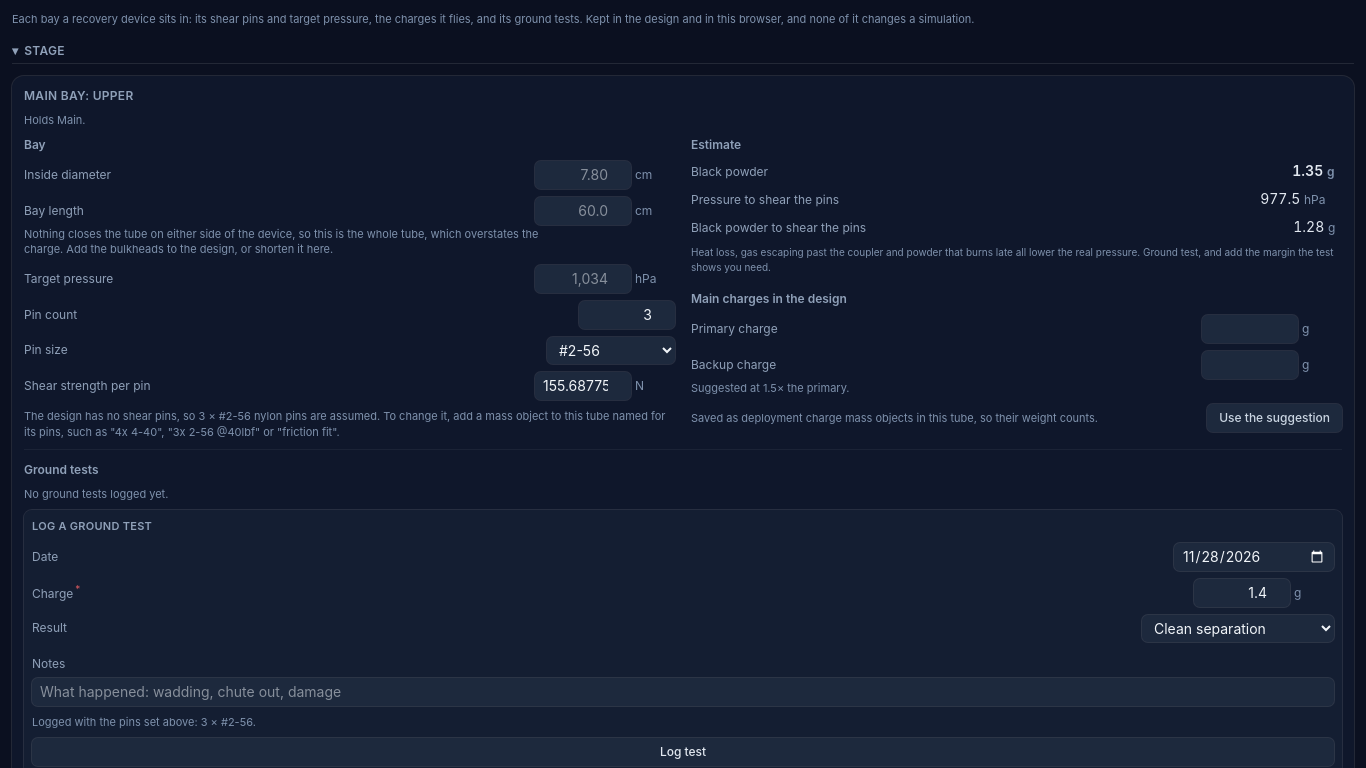
Test case: the Bays view › logs a ground test with the pins in, and flies its charge
The image size is (1366, 768).
Type "2026-10-30" into the date field labelled "Date". click: (1254, 557)
box: [1174,543,1334,571]
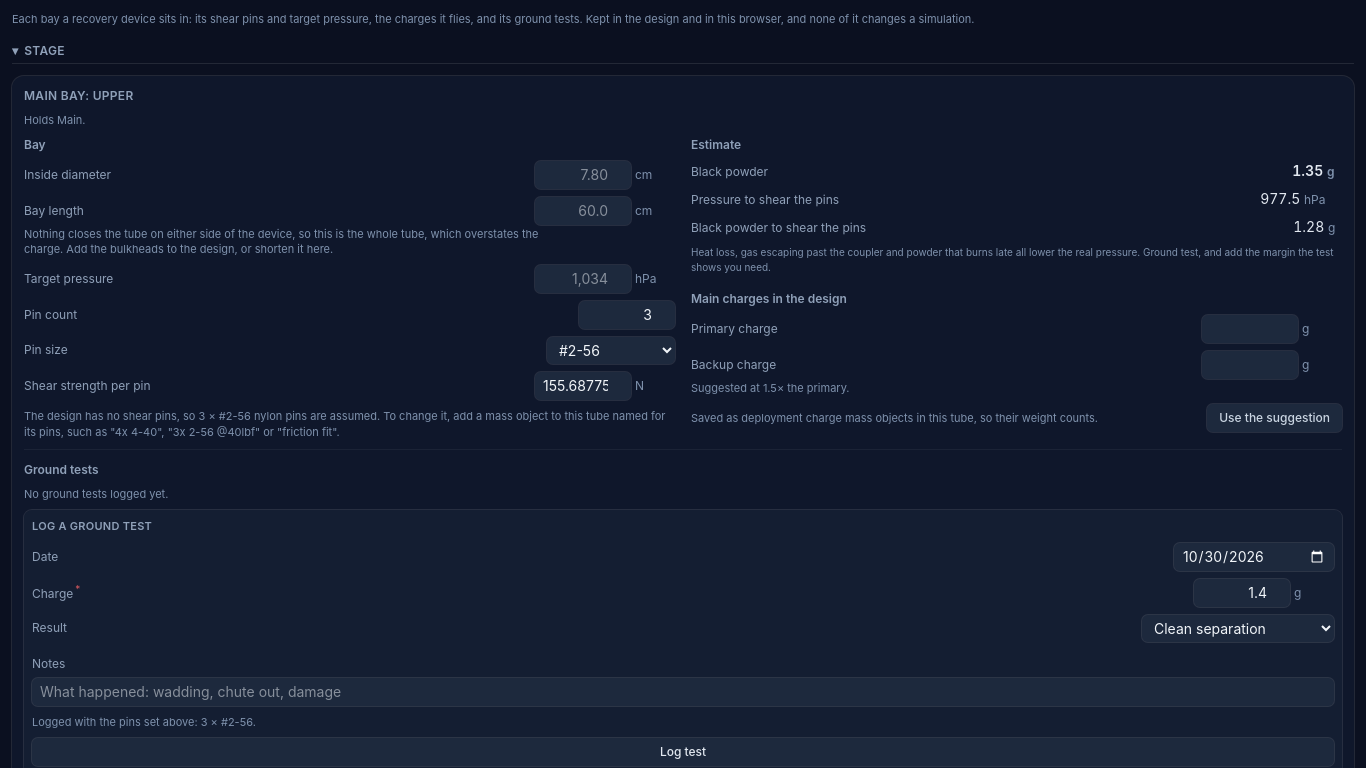
Replace the text in the number field labelled "Charge" with "1.2". click: (1242, 593)
box: [1194,579,1290,607]
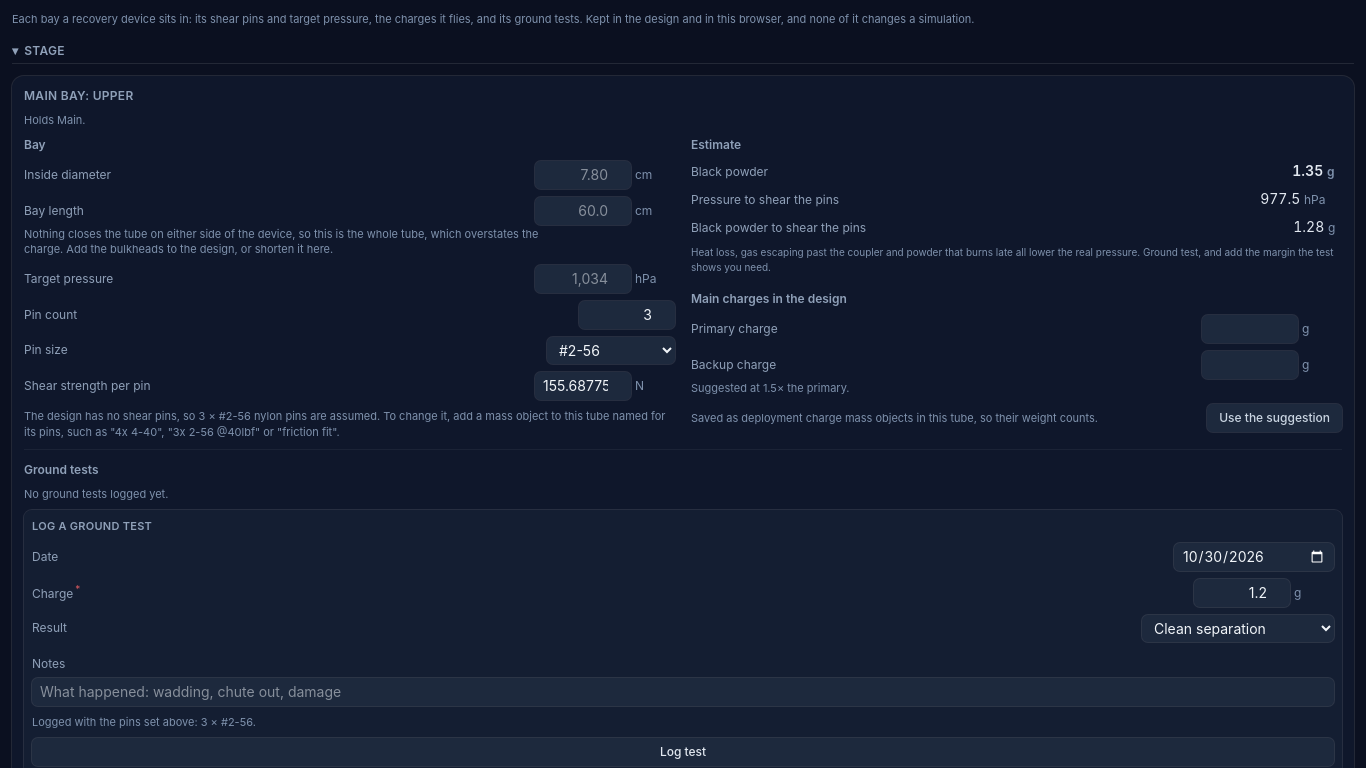
Select "Separated, too violent" in the dropdown labelled "Result". click: (1238, 628)
box: [1142,615,1334,642]
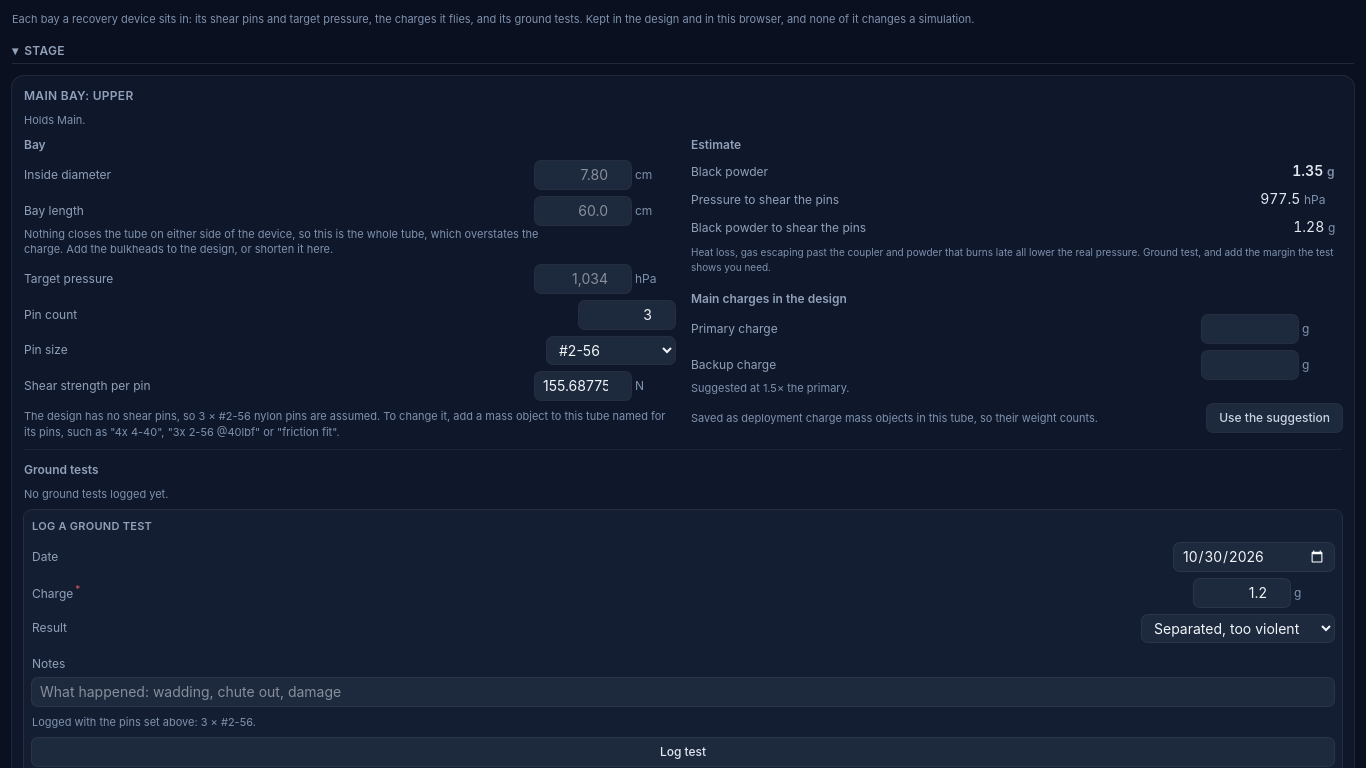
Type "Nose cone flew 10 m" into the field labelled "Notes". click: (683, 692)
box: [32,678,1334,706]
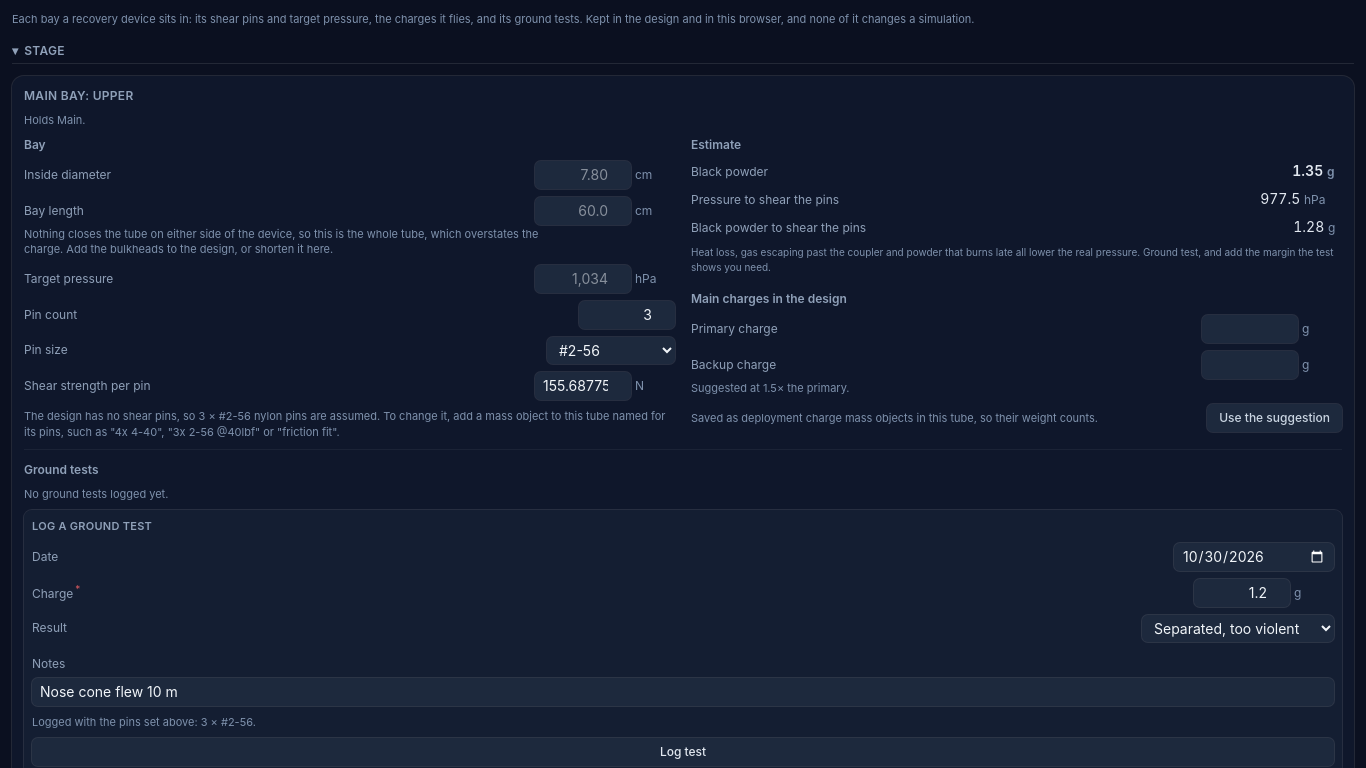
Click the button "Log test". click: (683, 752)
box: [32,738,1334,766]
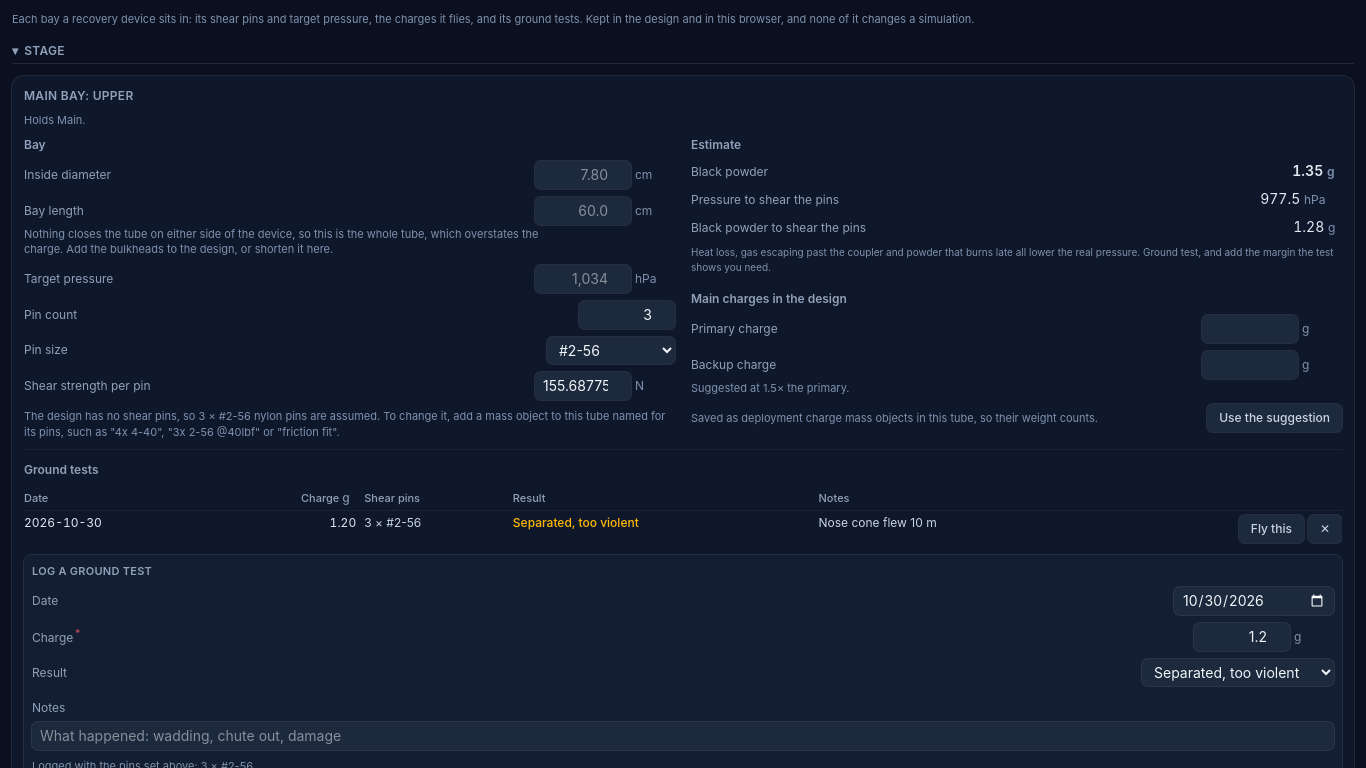
Click the button with aria-label "Fly the charge tested on 2026-10-30". click: (1271, 529)
box: [1239,515,1304,543]
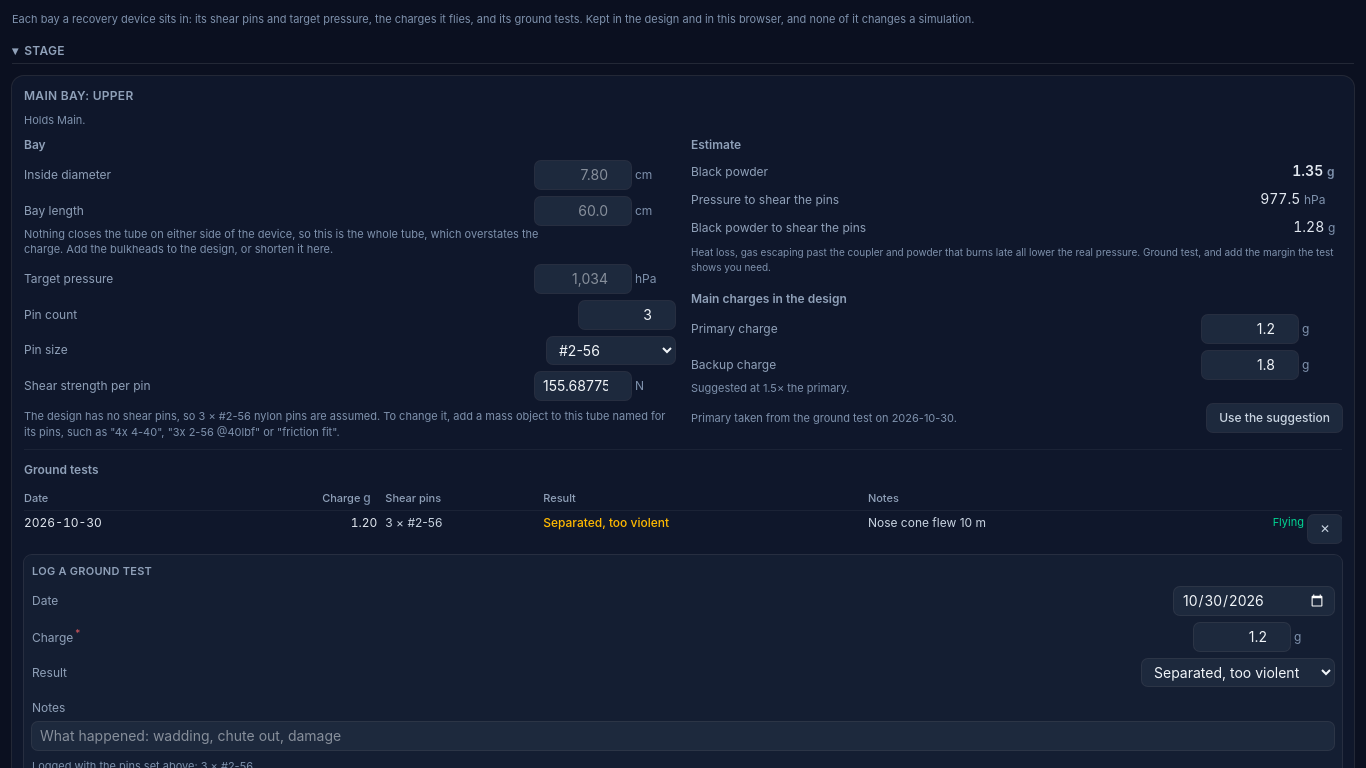
Now the text "Flying" is shown, box [1273,515,1304,529]
